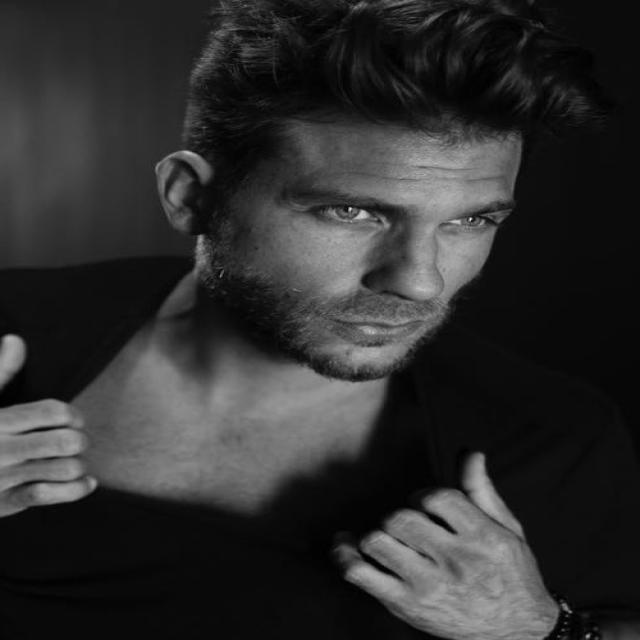Wrinkles: (336, 171, 434, 180), (412, 165, 485, 170), (467, 177, 509, 181), (434, 178, 469, 180), (389, 163, 407, 165), (365, 162, 389, 163)
